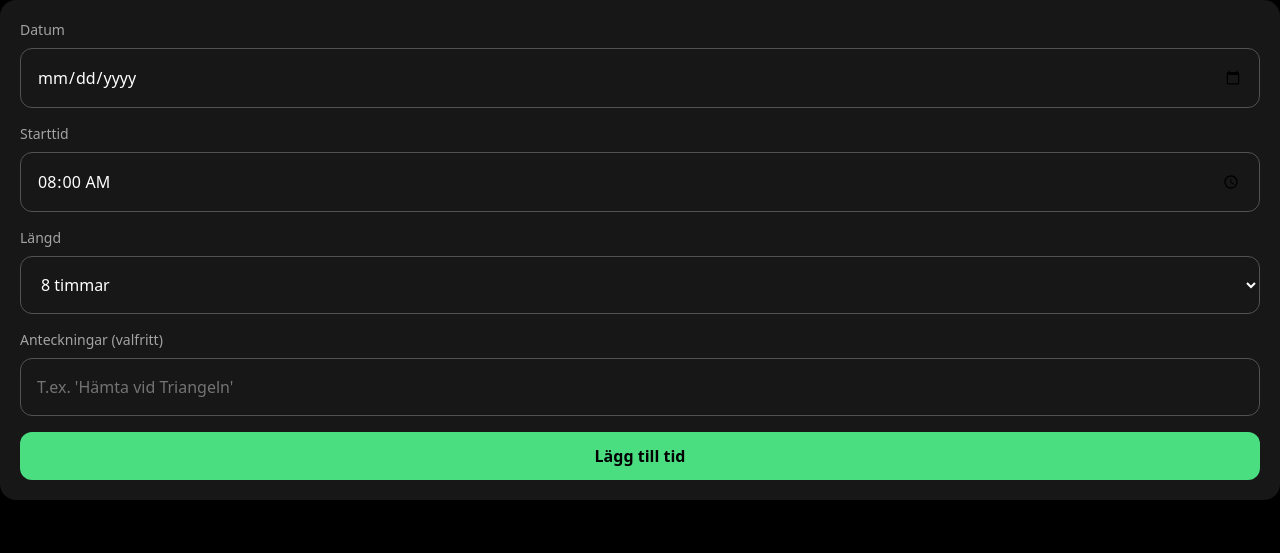
AddSlotForm › should show error when submitting without date
This screenshot has width=1280, height=553.
Click the button "Lägg till tid": (640, 456) x1=20 y1=432 x2=1260 y2=480
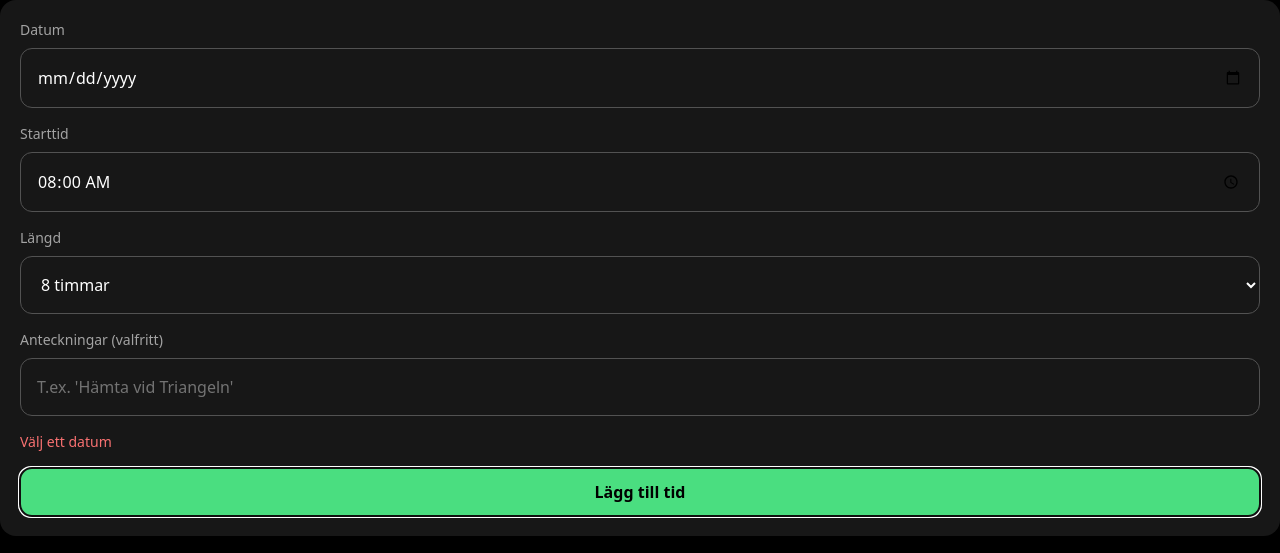
Expected: the text "Välj ett datum" is shown, x1=20 y1=432 x2=112 y2=451
